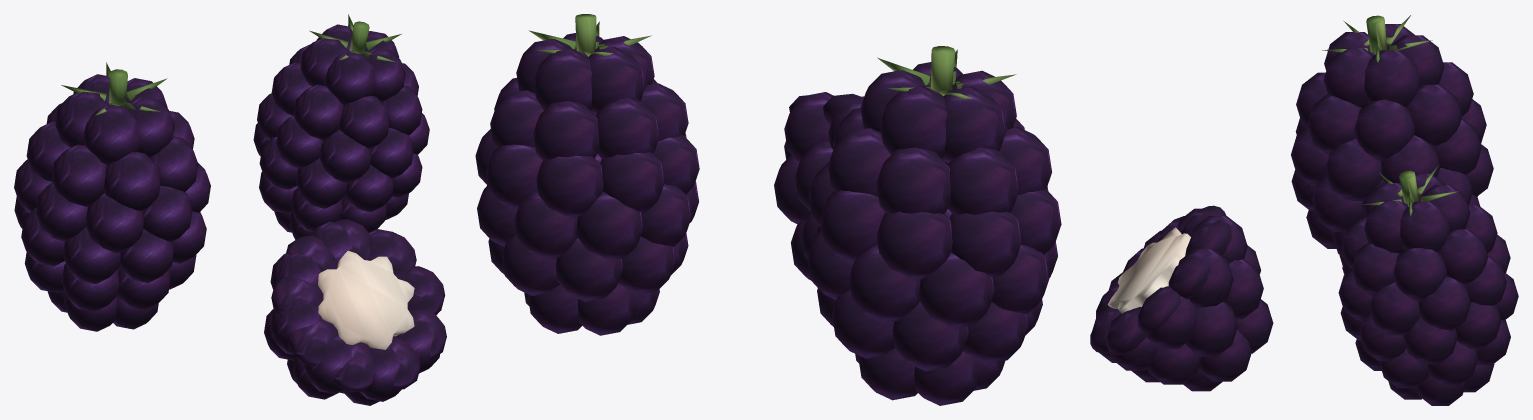
The model's file is NP_Blackberry_Harvest.fbx.
3 views of the same model, side by side, from view 1: azimuth 30°, elevation 25°; view 2: azimuth 150°, elevation 25°; view 3: azimuth 270°, elevation 25° (orthographic). The views are drawn at different scales.
Parts seen in each view (by area): view 1: NP_Blackberry_Harvest; view 2: NP_Blackberry_Harvest; view 3: NP_Blackberry_Harvest.
Boxes of the visible parts, box(x1,y1,x2,y2) form: NP_Blackberry_Harvest: box(14, 14, 446, 405); NP_Blackberry_Harvest: box(475, 14, 1061, 405); NP_Blackberry_Harvest: box(1090, 15, 1518, 405).
Size of the model in its own units: 45.97 by 31.74 by 41.18.
